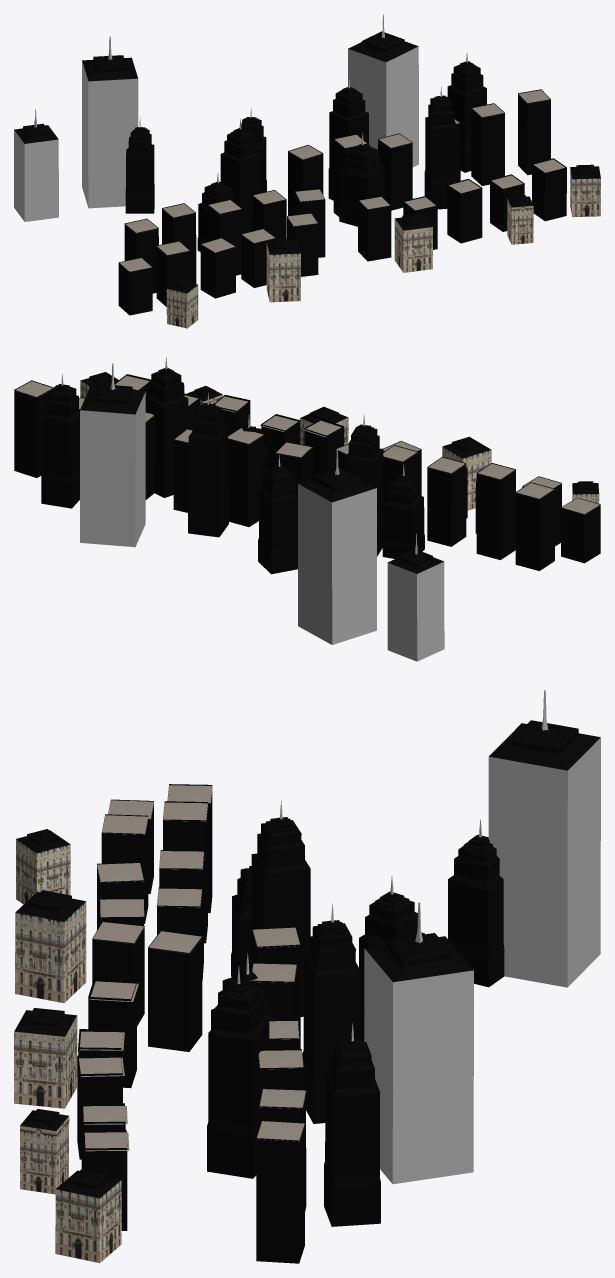
Rendered from building.fbx.
3 views of the same model, one above another, from view 1: azimuth 30°, elevation 25°; view 2: azimuth 150°, elevation 25°; view 3: azimuth 270°, elevation 25° (orthographic). The views are drawn at different scales.
Visible parts, largest first — view 1: quickStreet16Main, manhattan3Main, quickStreet15Main, quickStreet17Main, skyscraper9Main, manhattan4Main, quickStreet14Main, skyscraper6Main, skyscraper10Main, manhattan5Main, hotel2Main, hotel3Main (+13 smaller); view 2: manhattan3Main, skyscraper9Main, quickStreet14Main, skyscraper6Main, quickStreet16Main, manhattan4Main, skyscraper10Main, quickStreet17Main, quickStreet15Main, skyscraper6Leaf, skyscraper9Leaf, quickStreet14Leaf (+8 smaller); view 3: manhattan3Main, skyscraper9Main, skyscraper6Main, manhattan4Main, quickStreet16Main, quickStreet14Main, quickStreet17Main, quickStreet15Main, hotel2Main, hotel3Main, quickStreet16Leaf, hotel5Main (+13 smaller).
Part boxes in pixels (bbox=[...]): quickStreet16Main: bbox=[288, 89, 550, 216]; manhattan3Main: bbox=[197, 66, 486, 251]; quickStreet15Main: bbox=[118, 213, 318, 315]; quickStreet17Main: bbox=[358, 158, 566, 261]; skyscraper9Main: bbox=[82, 61, 138, 208]; manhattan4Main: bbox=[125, 97, 457, 213]; quickStreet14Main: bbox=[124, 189, 325, 293]; skyscraper6Main: bbox=[348, 46, 418, 167]; skyscraper10Main: bbox=[14, 130, 58, 221]; manhattan5Main: bbox=[339, 148, 384, 226]; hotel2Main: bbox=[266, 242, 300, 302]; hotel3Main: bbox=[394, 219, 432, 272]; manhattan3Main: bbox=[41, 385, 424, 558]; skyscraper9Main: bbox=[298, 484, 376, 644]; quickStreet14Main: bbox=[335, 444, 554, 570]; skyscraper6Main: bbox=[80, 392, 145, 547]; quickStreet16Main: bbox=[14, 380, 312, 526]; manhattan4Main: bbox=[145, 372, 297, 574]; skyscraper10Main: bbox=[387, 562, 444, 661]; quickStreet17Main: bbox=[114, 374, 344, 478]; quickStreet15Main: bbox=[383, 441, 600, 563]; skyscraper6Leaf: bbox=[80, 384, 145, 414]; skyscraper9Leaf: bbox=[298, 467, 376, 502]; quickStreet14Leaf: bbox=[336, 444, 553, 498]; manhattan3Main: bbox=[231, 820, 380, 1226]; skyscraper9Main: bbox=[488, 737, 600, 987]; skyscraper6Main: bbox=[364, 948, 473, 1184]; manhattan4Main: bbox=[207, 845, 504, 1178]; quickStreet16Main: bbox=[251, 926, 306, 1263]; quickStreet14Main: bbox=[148, 784, 212, 1051]; quickStreet17Main: bbox=[77, 978, 136, 1230]; quickStreet15Main: bbox=[92, 799, 153, 1026]; hotel2Main: bbox=[15, 901, 86, 1003]; hotel3Main: bbox=[14, 1016, 77, 1108]; quickStreet16Leaf: bbox=[250, 927, 306, 1141]; hotel5Main: bbox=[55, 1180, 121, 1263].
Bounding box in the file's own units: 25.3 × 8.28 × 16.11.
36 materials, 5 textured.
